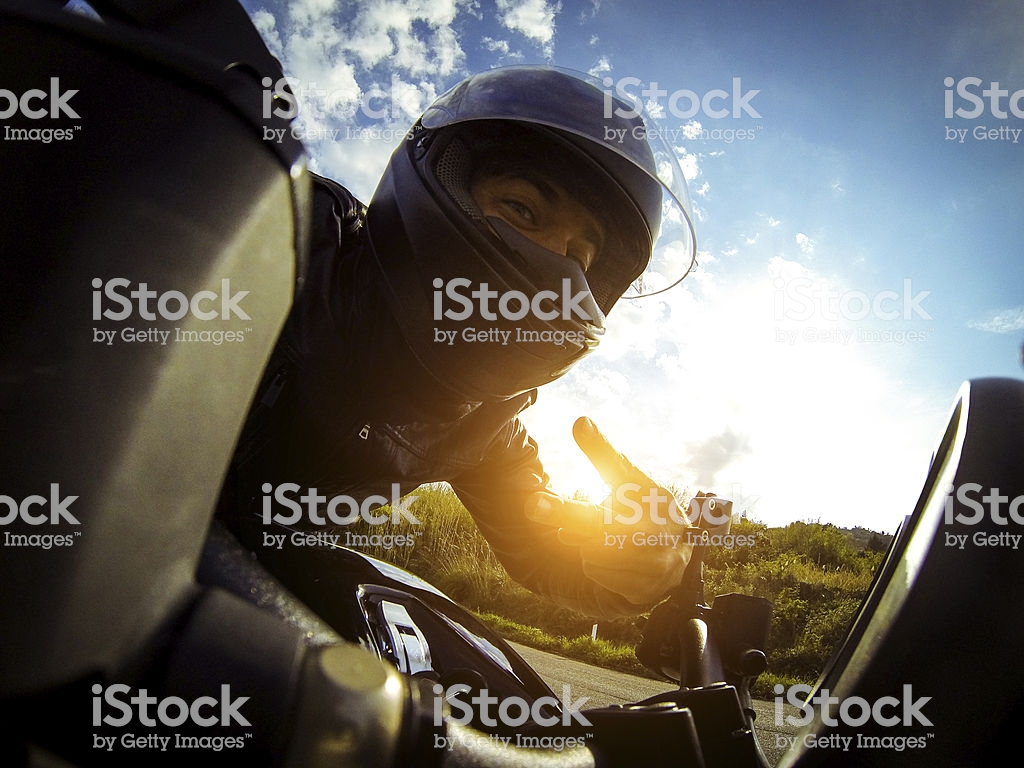helmet: (376, 63, 668, 348)
